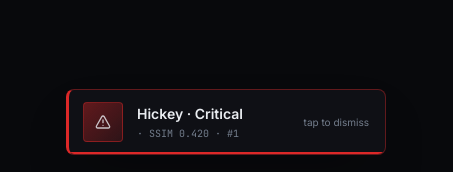
Test: DefectAlertOverlay — expand › expands and cancels timer on tap
The width and height of the screenshot is (453, 172).
Click the message "Hickey · critical · SSIM 0.420 · #1 tap to dismiss".
click(226, 122)  # box [66,89,386,155]
Wait 6000 ms
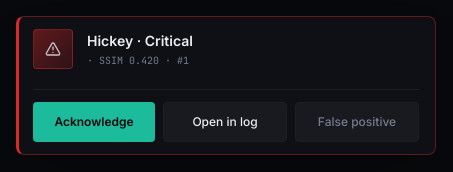
Check: the button "Acknowledge" is shown, box [33,102,155,142]
